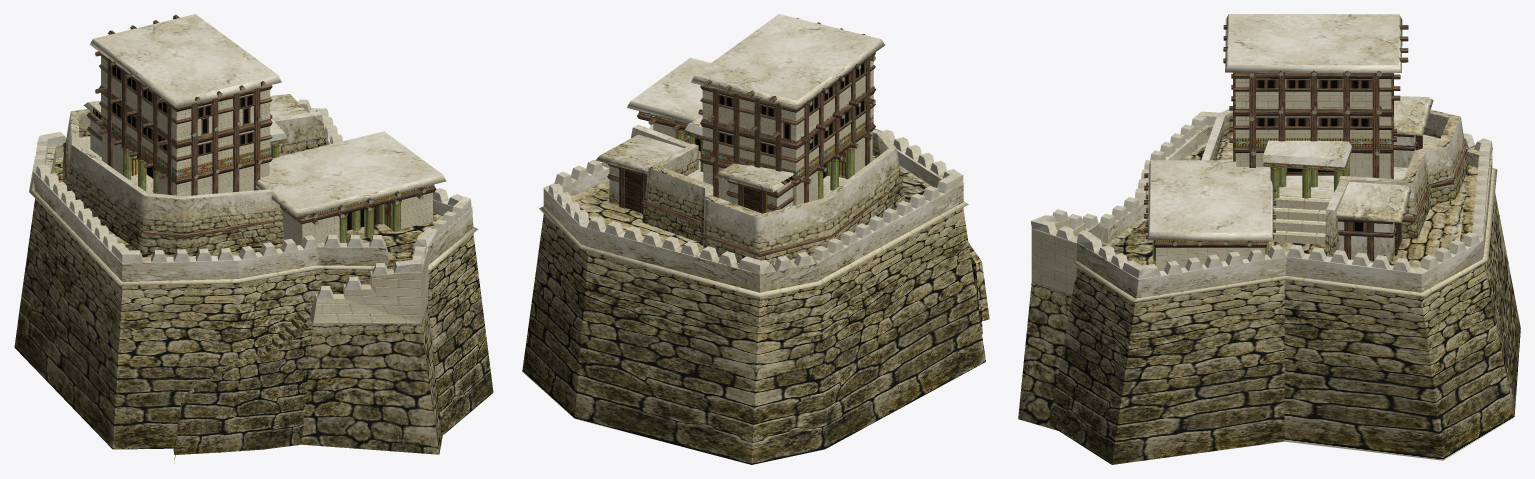
File: mycenae_wonder.dae
The picture shows the model from 3 angles, left to right: view 1: azimuth 30°, elevation 25°; view 2: azimuth 150°, elevation 25°; view 3: azimuth 270°, elevation 25°; orthographic projection. The views are drawn at different scales.
Visible parts, largest first — view 1: wonder; view 2: wonder; view 3: wonder.
Boxes of the visible parts, left/top/right/bottom form: wonder: left=14, top=14, right=493, bottom=462; wonder: left=522, top=14, right=989, bottom=464; wonder: left=1018, top=14, right=1520, bottom=464.
Size of the model in its own units: 44.37 by 55.01 by 39.27.
